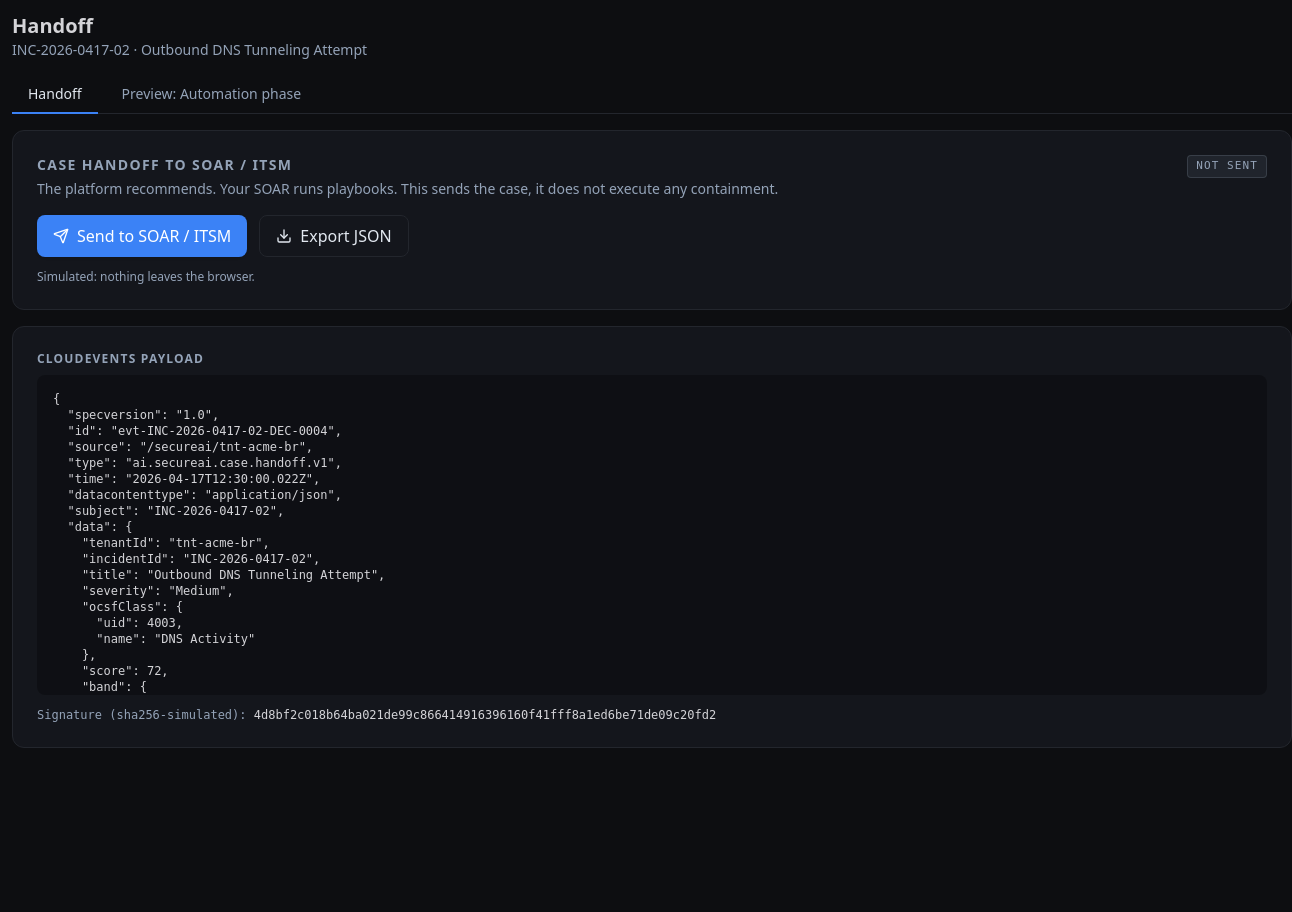
Test: automation preview › refuses when the score is below 85
Click the tab "Preview: Automation phase" at [211, 95], box [106,76,317,114]
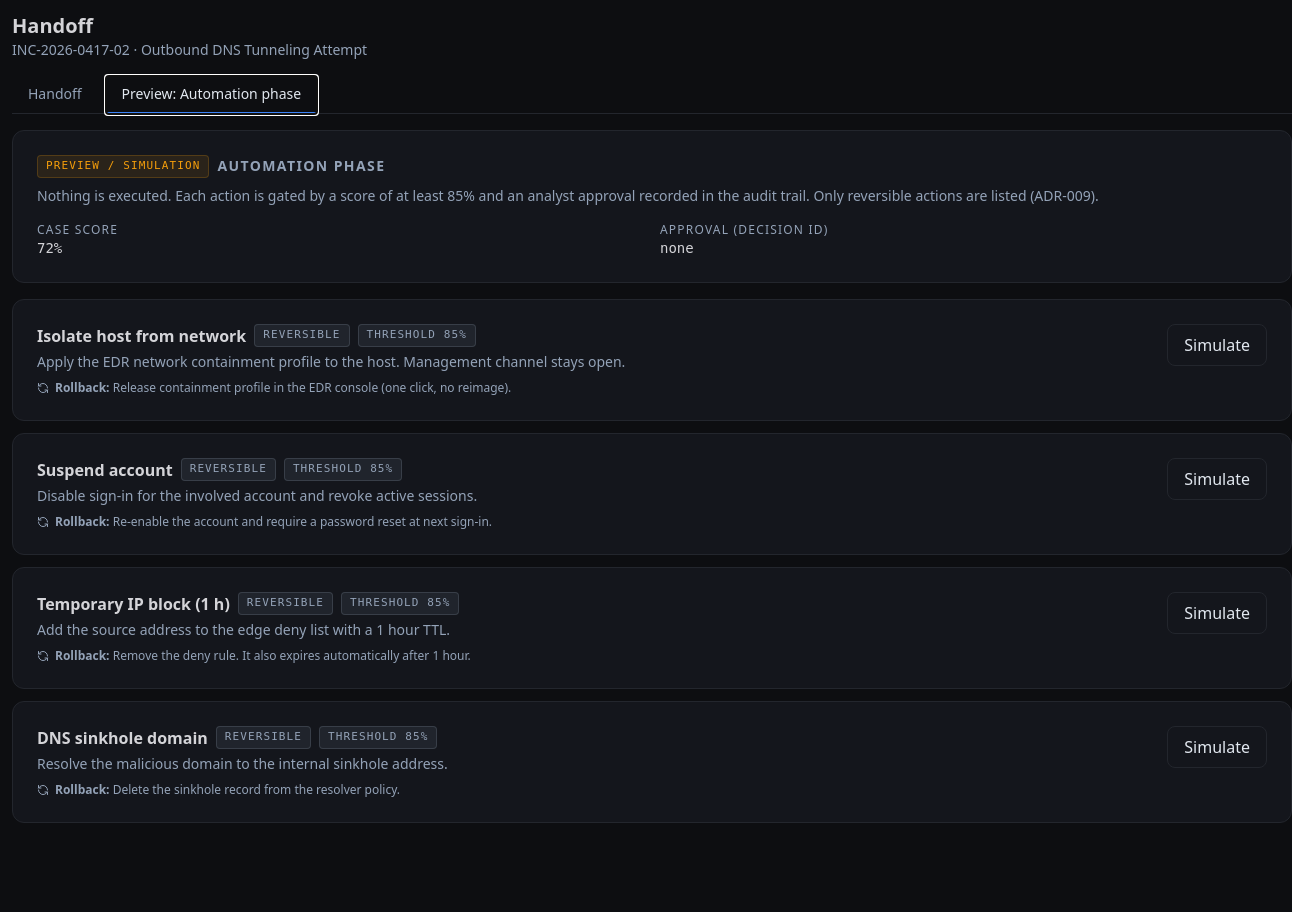
Click the button with aria-label "Simulate Isolate host from network" at [1217, 344], box [1167,324,1267,366]
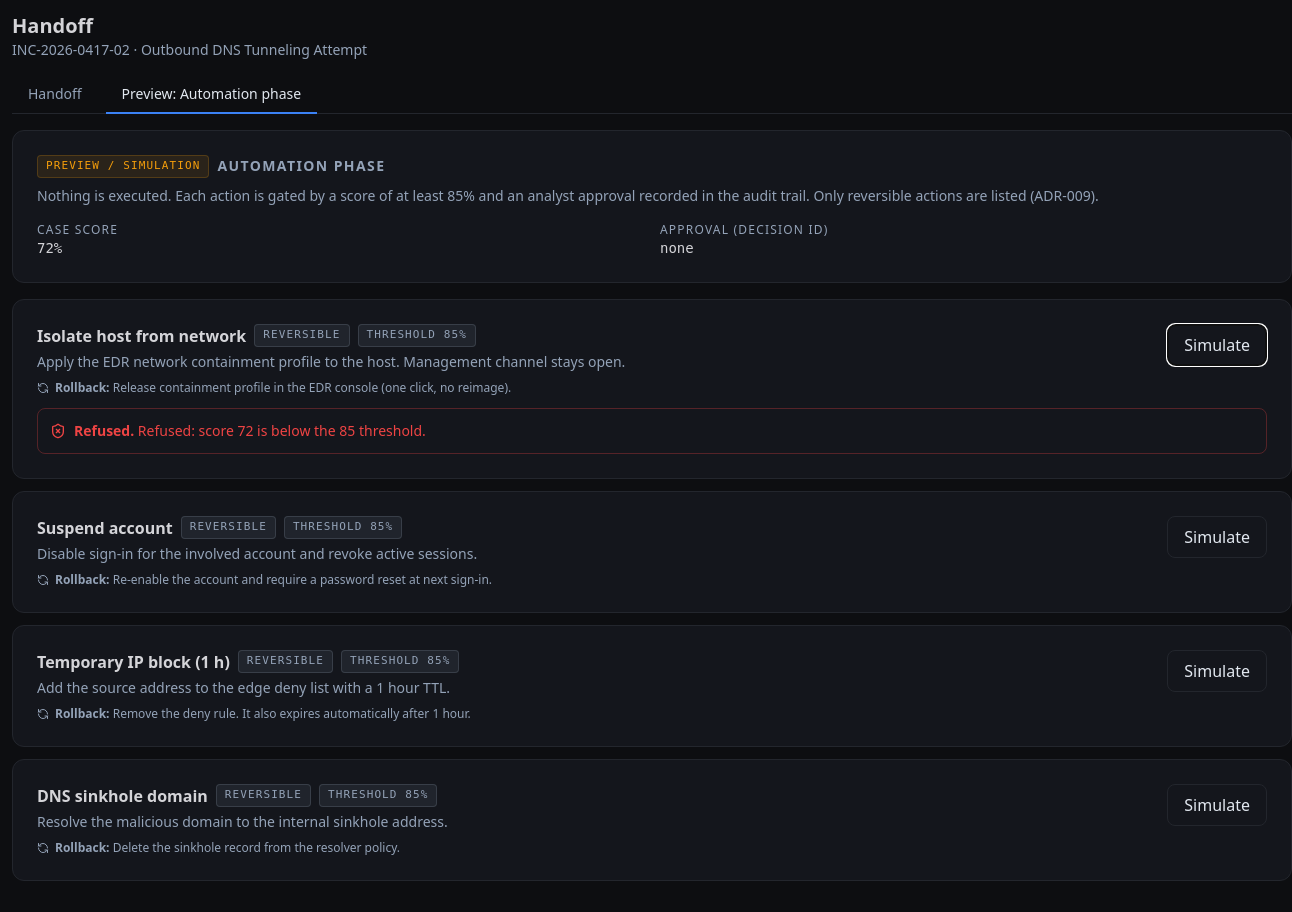
Expected: the message reads "Refused. Refused: score 72 is below the 85 threshold.", [138,420,426,440]
